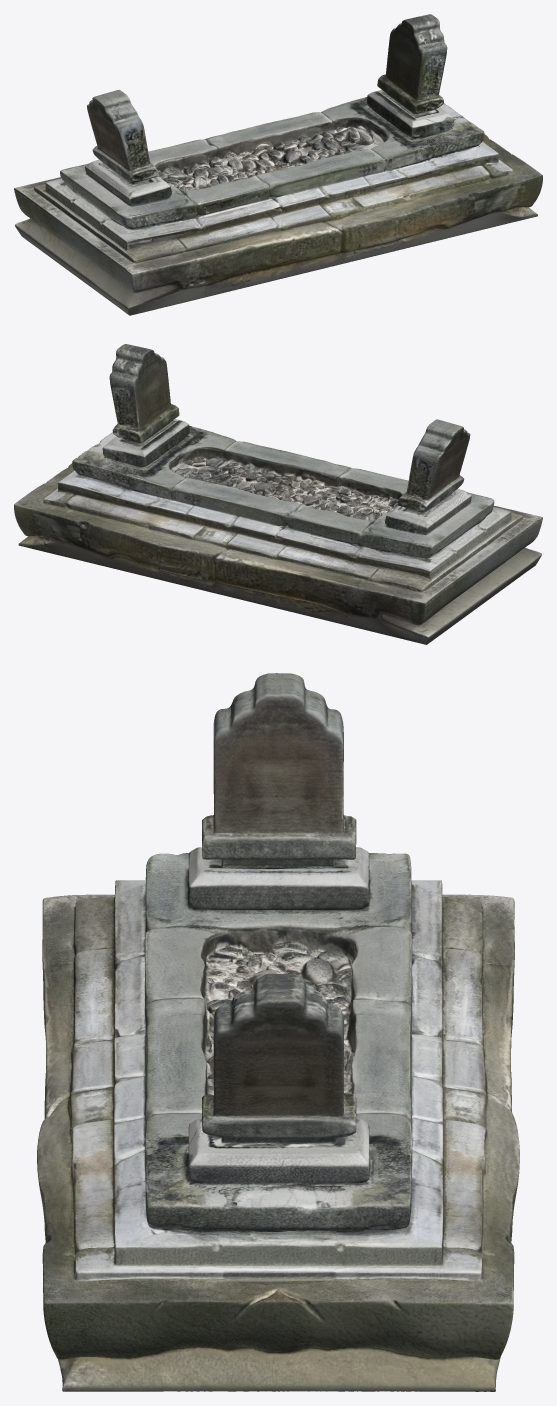
File: Ancient_Stone_Base_wi_0627183900_texture.fbx
The picture shows the model from 3 angles, top to bottom: view 1: azimuth 30°, elevation 25°; view 2: azimuth 150°, elevation 25°; view 3: azimuth 270°, elevation 25°; orthographic projection. The views are drawn at different scales.
Visible parts, largest first — view 1: Mesh_0; view 2: Mesh_0; view 3: Mesh_0.
Boxes of the visible parts, <box> form: Mesh_0: <box>14,14,542,315</box>; Mesh_0: <box>14,344,542,644</box>; Mesh_0: <box>37,673,519,1391</box>.
Bounding box in the file's own units: 125 × 50 × 63.38.
1 material, 1 textured.
